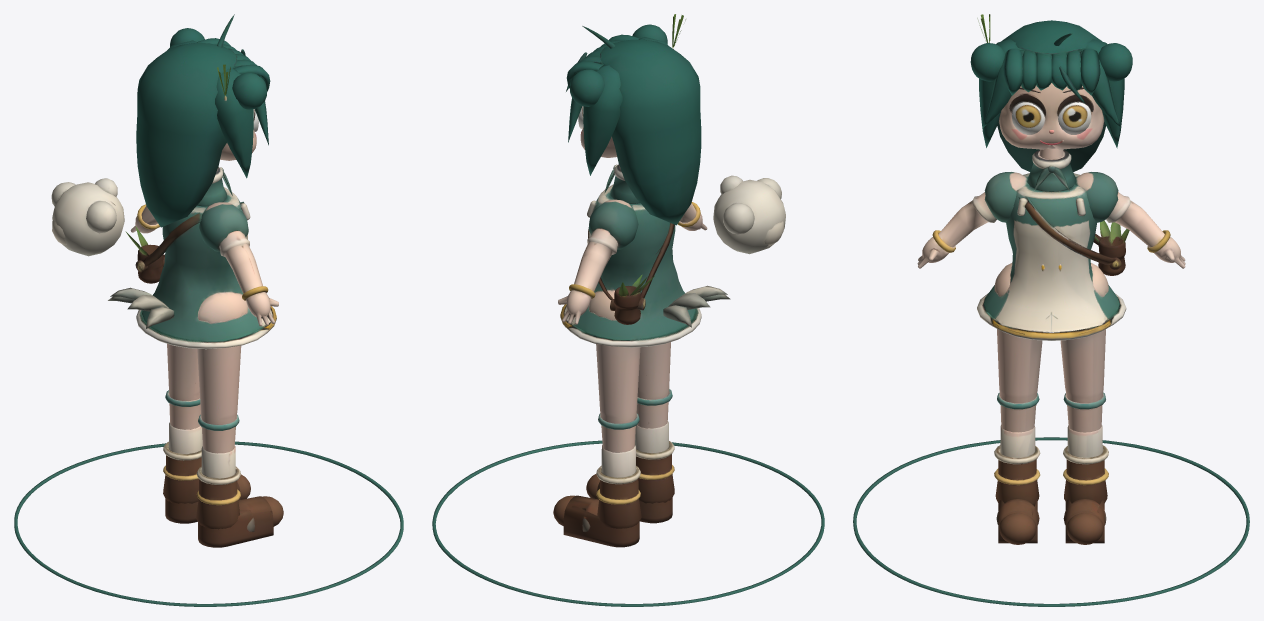
3 views of the same model, side by side, from view 1: azimuth 30°, elevation 25°; view 2: azimuth 150°, elevation 25°; view 3: azimuth 270°, elevation 25° (orthographic). The views are drawn at different scales.
Visible parts, largest first — view 1: tripo_node_a5dd4df2-a319-432b-b1bd-906fb2a125e1; view 2: tripo_node_a5dd4df2-a319-432b-b1bd-906fb2a125e1; view 3: tripo_node_a5dd4df2-a319-432b-b1bd-906fb2a125e1.
Part boxes in pixels (box(x1,y1,x2,y2)): tripo_node_a5dd4df2-a319-432b-b1bd-906fb2a125e1: box(14, 14, 403, 606); tripo_node_a5dd4df2-a319-432b-b1bd-906fb2a125e1: box(432, 14, 824, 606); tripo_node_a5dd4df2-a319-432b-b1bd-906fb2a125e1: box(853, 14, 1249, 606).
Size of the model in its own units: 0.7085 by 0.9995 by 0.7065.
1 material, 1 textured.
